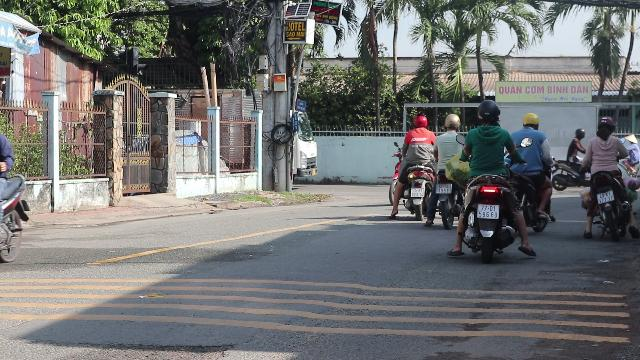helmet: (475, 99, 501, 127), (595, 116, 615, 136), (521, 111, 539, 127), (443, 114, 459, 131), (411, 115, 427, 130)
licenseplate: (477, 204, 499, 220), (597, 190, 613, 204), (436, 184, 452, 194), (411, 188, 425, 196)
motorcyclist: (455, 98, 527, 262), (578, 116, 634, 240), (509, 110, 555, 234), (386, 114, 434, 222), (429, 112, 467, 226)
